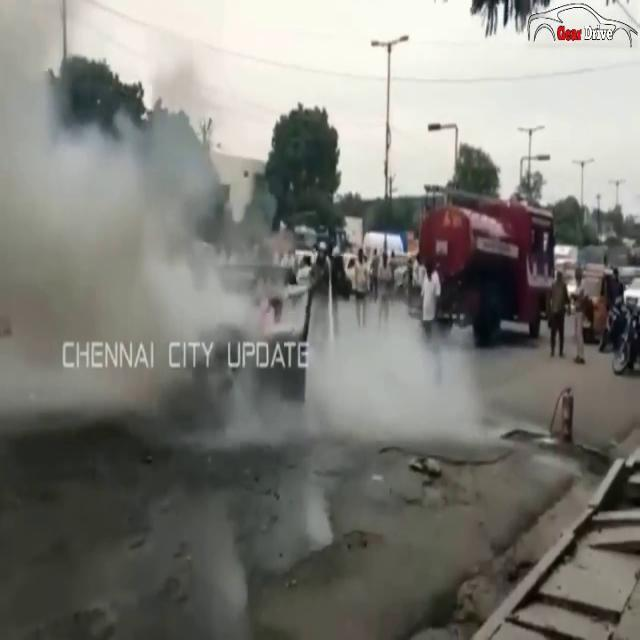Smoke: (1, 1, 270, 392)
